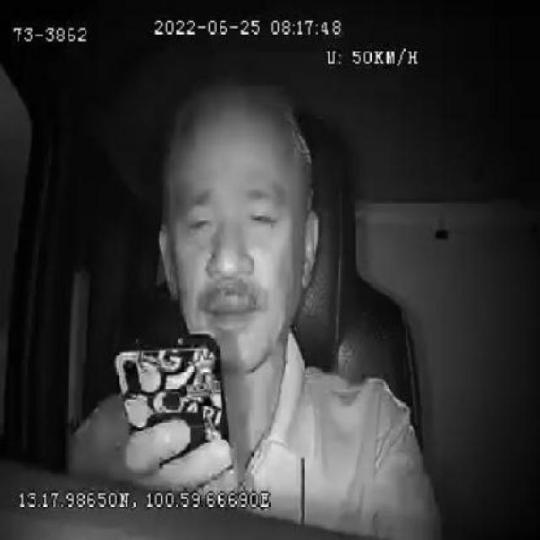phone: (109, 333, 234, 455)
